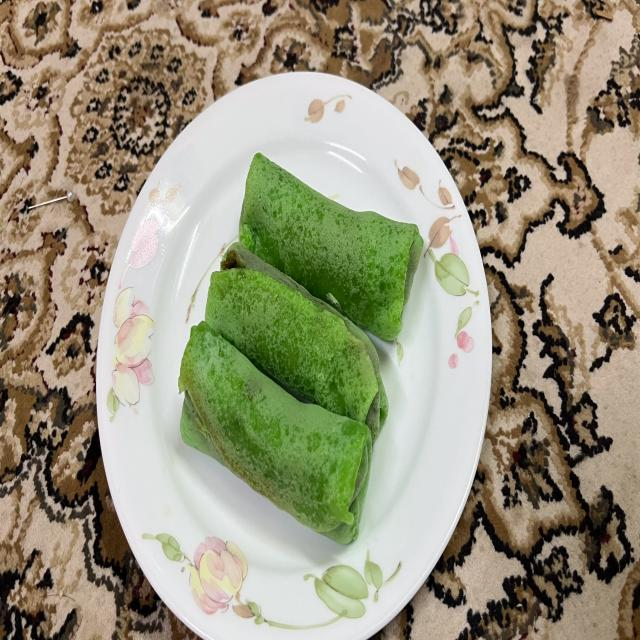Kuih-Ketayap: (179, 322, 371, 544), (205, 244, 389, 442), (239, 153, 422, 340)
